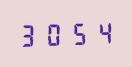five: (66, 19, 89, 46)
four: (90, 19, 113, 45)
three: (18, 21, 41, 47)
zero: (42, 20, 65, 47)
